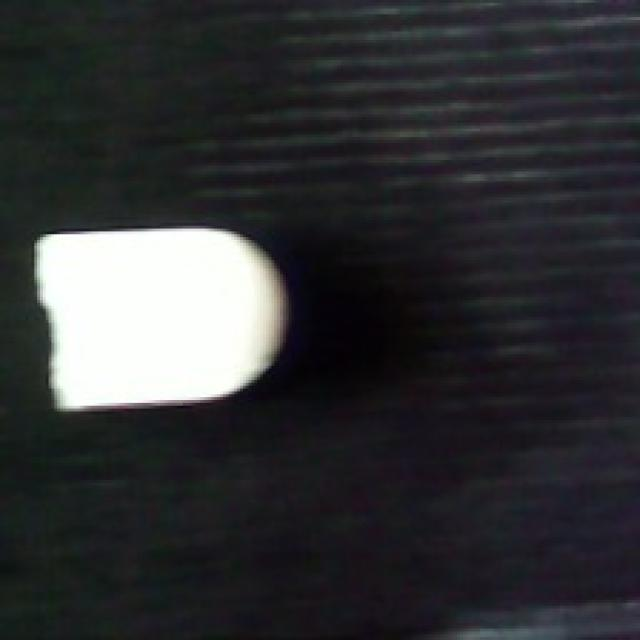defected: (32, 215, 297, 412)
